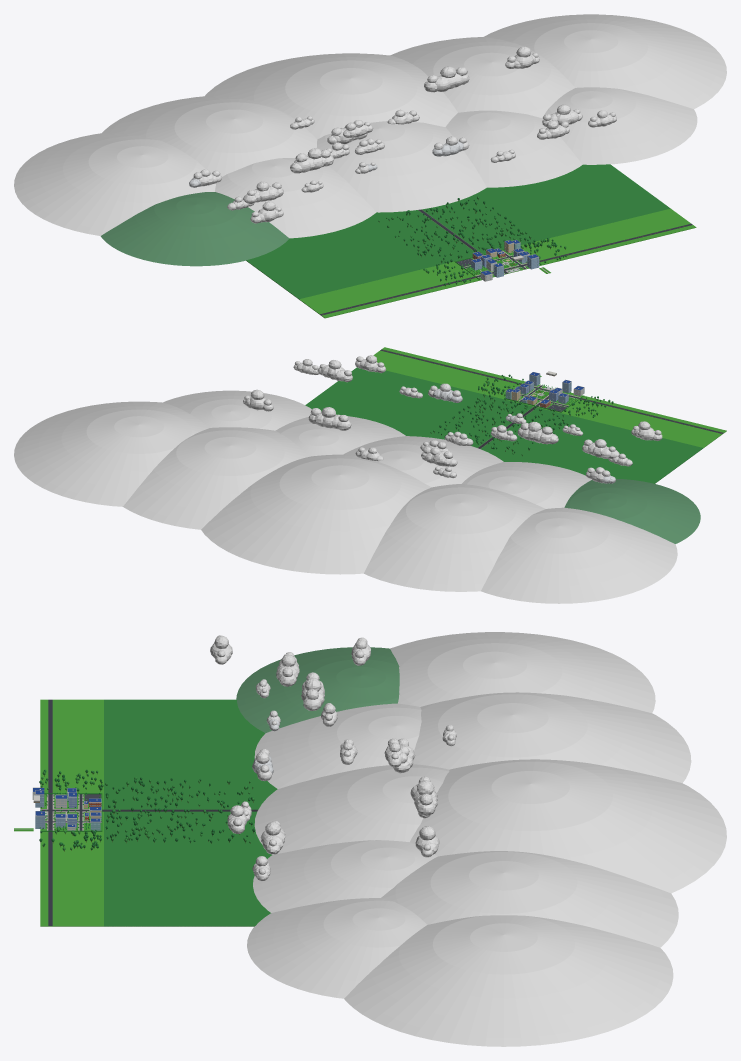
File: MistressFlat2.fbx
3 renders of one model, top to bottom at view 1: azimuth 30°, elevation 25°; view 2: azimuth 150°, elevation 25°; view 3: azimuth 270°, elevation 25°, orthographic. The views are drawn at different scales.
Parts seen in each view (by area): view 1: O_59_53_0, O_74_42_0, O_49_42_0, O_61_41_0, O_55_42_0, O_49_47_0, O_60_45_0, O_59_54_0, O_68_42_0, O_71_47_0, O_54_46_0, O_66_46_0; view 2: O_61_41_0, O_59_53_0, O_49_42_0, O_74_42_0, O_55_42_0, O_68_42_0, O_59_54_0, O_49_47_0, O_71_47_0, O_54_46_0, O_60_45_0, O_66_46_0 (+1 smaller); view 3: O_59_53_0, O_74_42_0, O_61_41_0, O_55_42_0, O_68_42_0, O_49_42_0, O_59_54_0, O_71_47_0, O_60_45_0, O_66_46_0, O_54_46_0, O_49_47_0.
Boxes of the visible parts, bbox=[...] form: O_59_53_0: bbox=[246, 164, 670, 299]; O_74_42_0: bbox=[484, 14, 726, 108]; O_49_42_0: bbox=[14, 133, 215, 235]; O_61_41_0: bbox=[205, 53, 457, 139]; O_55_42_0: bbox=[102, 96, 317, 176]; O_49_47_0: bbox=[100, 172, 289, 266]; O_60_45_0: bbox=[317, 121, 486, 212]; O_59_54_0: bbox=[246, 208, 696, 318]; O_68_42_0: bbox=[390, 37, 574, 117]; O_71_47_0: bbox=[542, 87, 697, 164]; O_54_46_0: bbox=[215, 158, 376, 238]; O_66_46_0: bbox=[445, 110, 582, 187]; O_61_41_0: bbox=[201, 454, 431, 574]; O_59_53_0: bbox=[305, 367, 703, 483]; O_49_42_0: bbox=[481, 507, 677, 603]; O_74_42_0: bbox=[14, 401, 209, 506]; O_55_42_0: bbox=[364, 484, 545, 591]; O_68_42_0: bbox=[123, 427, 309, 529]; O_59_54_0: bbox=[373, 347, 726, 448]; O_49_47_0: bbox=[564, 470, 700, 543]; O_71_47_0: bbox=[163, 390, 311, 430]; O_54_46_0: bbox=[462, 462, 591, 508]; O_60_45_0: bbox=[343, 436, 503, 487]; O_66_46_0: bbox=[275, 416, 405, 456]; O_59_53_0: bbox=[102, 699, 277, 926]; O_74_42_0: bbox=[344, 915, 673, 1046]; O_61_41_0: bbox=[410, 759, 726, 893]; O_55_42_0: bbox=[413, 692, 691, 782]; O_68_42_0: bbox=[381, 851, 678, 947]; O_49_42_0: bbox=[390, 632, 655, 712]; O_59_54_0: bbox=[40, 699, 256, 926]; O_71_47_0: bbox=[247, 898, 426, 998]; O_60_45_0: bbox=[254, 764, 449, 854]; O_66_46_0: bbox=[253, 840, 437, 912]; O_54_46_0: bbox=[254, 703, 421, 788]; O_49_47_0: bbox=[236, 637, 399, 733].
Size of the model in its own units: 5499 by 550 by 3995.
